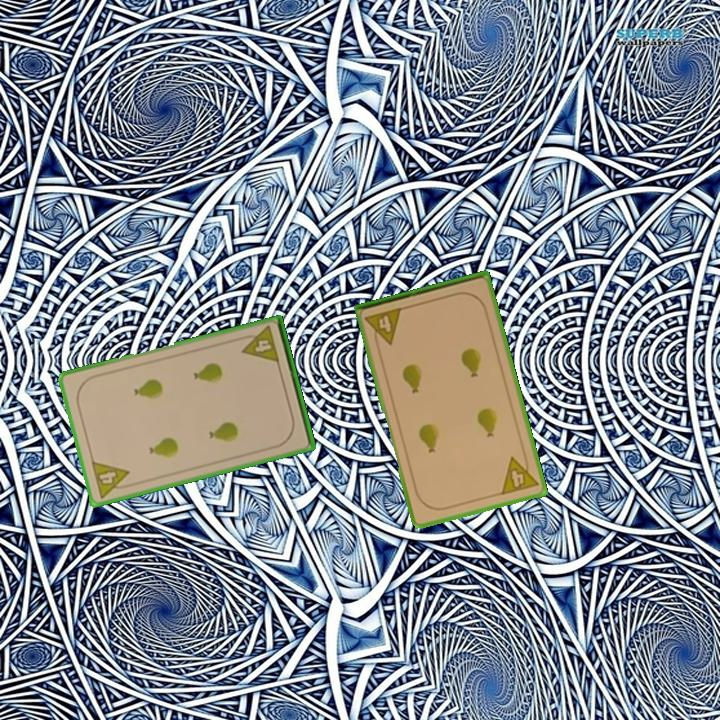4p: (497, 450, 541, 498), (88, 457, 135, 501), (236, 322, 282, 366), (361, 304, 405, 350)
